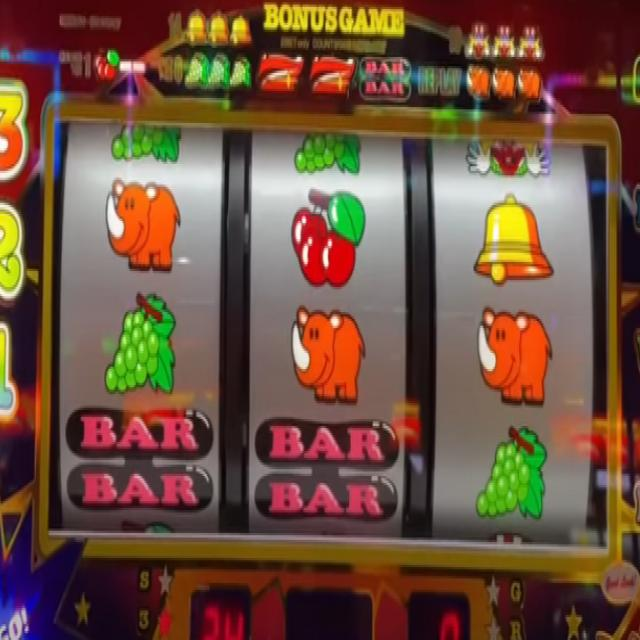bar: (64, 403, 214, 518), (255, 415, 402, 531), (360, 53, 411, 101)
bell: (185, 7, 207, 44), (208, 7, 228, 44), (230, 13, 251, 47)
cherry: (290, 188, 367, 292), (94, 48, 121, 83)
clown: (464, 142, 553, 185), (518, 25, 544, 64), (465, 22, 491, 60), (492, 21, 516, 61)
display: (51, 115, 610, 553)
elephant: (476, 304, 554, 409), (104, 178, 180, 272), (291, 306, 366, 401), (465, 59, 489, 96), (518, 66, 542, 103), (492, 65, 515, 98)
grape: (477, 426, 548, 526), (105, 297, 176, 393), (111, 116, 182, 165), (292, 132, 361, 178), (186, 51, 207, 88), (230, 56, 251, 93), (208, 57, 230, 88)
z: (258, 52, 302, 98), (312, 54, 355, 100)
